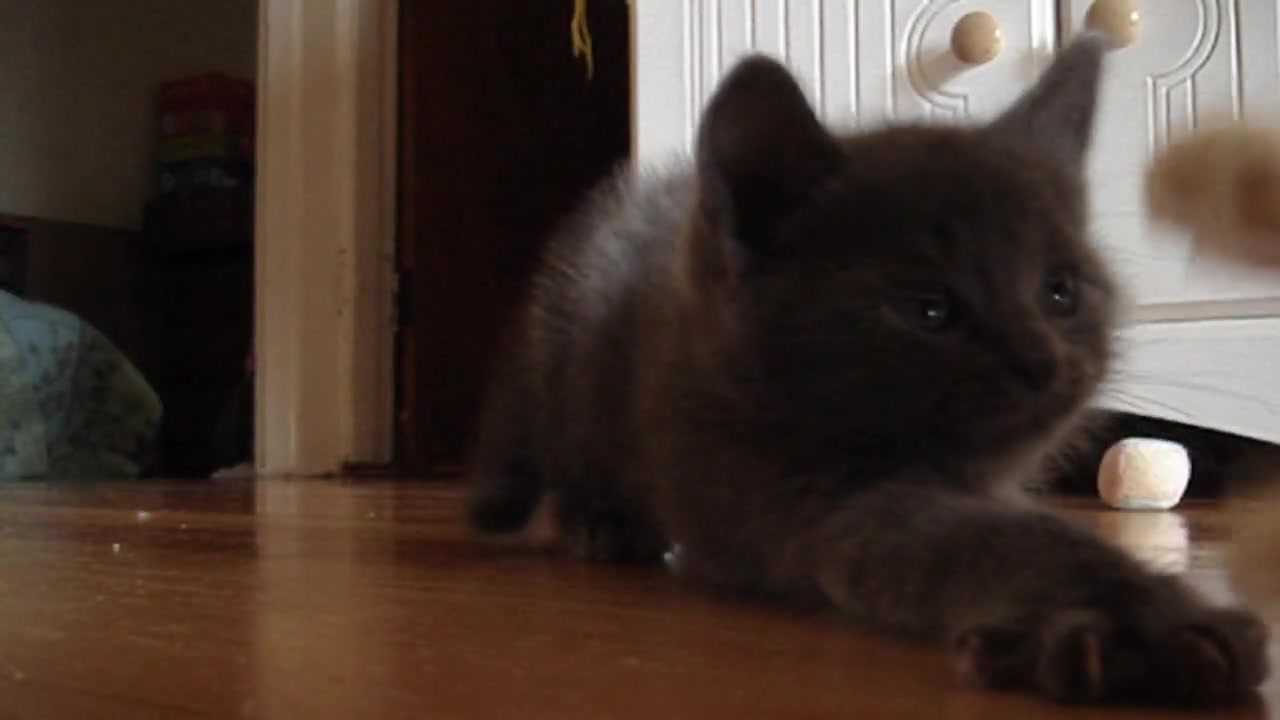cat: (471, 29, 1275, 719)
